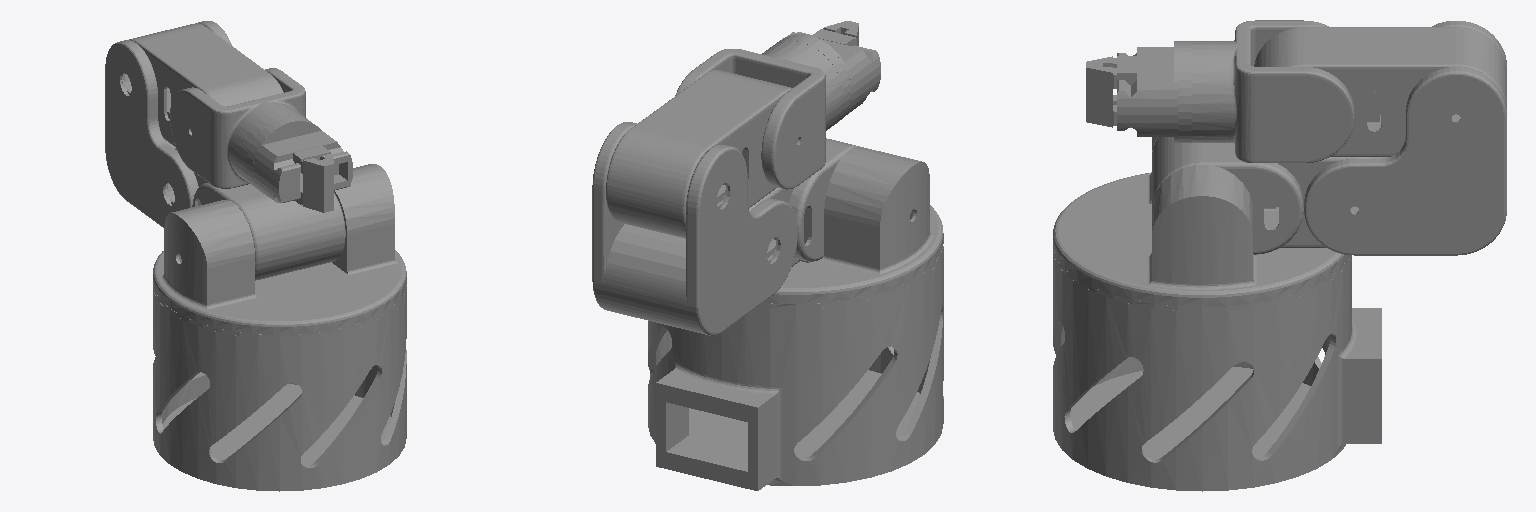
robot.urdf — URDF_mesh3:
<?xml version="1.0" encoding="utf-8"?>
<!-- This URDF was automatically created by SolidWorks to URDF Exporter! Originally created by Stephen Brawner (brawner@gmail.com) 
     Commit Version: 1.6.0-4-g7f85cfe  Build Version: 1.6.7995.38578
     For more information, please see http://wiki.ros.org/sw_urdf_exporter -->
<robot
  name="URDF_mesh3">
  <link
    name="base_link">
    <inertial>
      <origin
        xyz="-2.88841529450125E-05 0.00680637713324165 0.0542195174122674"
        rpy="0 0 0" />
      <mass
        value="0.276769434491233" />
      <inertia
        ixx="0.000920049908931992"
        ixy="4.47962690896385E-07"
        ixz="8.47165923723122E-07"
        iyy="0.000798308663008452"
        iyz="5.72343861467879E-05"
        izz="0.00126720597801514" />
    </inertial>
    <visual>
      <origin
        xyz="0 0 0"
        rpy="0 0 0" />
      <geometry>
        <mesh
          filename="package://URDF_mesh3/meshes/base_link.STL" />
      </geometry>
      <material
        name="">
        <color
          rgba="0.627450980392157 0.627450980392157 0.627450980392157 1" />
      </material>
    </visual>
    <collision>
      <origin
        xyz="0 0 0"
        rpy="0 0 0" />
      <geometry>
        <mesh
          filename="package://URDF_mesh3/meshes/base_link.STL" />
      </geometry>
    </collision>
  </link>
  <link
    name="link_1">
    <inertial>
      <origin
        xyz="-0.0010669 -5.4441E-06 0.016145"
        rpy="0 0 0" />
      <mass
        value="0.10166" />
      <inertia
        ixx="0.0001764"
        ixy="2.5396E-10"
        ixz="1.8796E-06"
        iyy="0.00023841"
        iyz="-8.9944E-09"
        izz="0.00036361" />
    </inertial>
    <visual>
      <origin
        xyz="0 0 0"
        rpy="0 0 0" />
      <geometry>
        <mesh
          filename="package://URDF_mesh3/meshes/link_1.STL" />
      </geometry>
      <material
        name="">
        <color
          rgba="0.62745 0.62745 0.62745 1" />
      </material>
    </visual>
    <collision>
      <origin
        xyz="0 0 0"
        rpy="0 0 0" />
      <geometry>
        <mesh
          filename="package://URDF_mesh3/meshes/link_1.STL" />
      </geometry>
    </collision>
  </link>
  <joint
    name="joint_1"
    type="revolute">
    <origin
      xyz="0 0 0.09905"
      rpy="0 0 0" />
    <parent
      link="base_link" />
    <child
      link="link_1" />
    <axis
      xyz="0 0 1" />
    <limit
      lower="-1.57"
      upper="1.57"
      effort="10"
      velocity="100" />
  </joint>
  <link
    name="link_2">
    <inertial>
      <origin
        xyz="0.002007 -0.036338 -0.0064654"
        rpy="0 0 0" />
      <mass
        value="0.10565" />
      <inertia
        ixx="0.00013506"
        ixy="-1.2634E-05"
        ixz="2.7537E-07"
        iyy="4.4035E-05"
        iyz="-1.7264E-07"
        izz="0.00015959" />
    </inertial>
    <visual>
      <origin
        xyz="0 0 0"
        rpy="0 0 0" />
      <geometry>
        <mesh
          filename="package://URDF_mesh3/meshes/link_2.STL" />
      </geometry>
      <material
        name="">
        <color
          rgba="0.62745 0.62745 0.62745 1" />
      </material>
    </visual>
    <collision>
      <origin
        xyz="0 0 0"
        rpy="0 0 0" />
      <geometry>
        <mesh
          filename="package://URDF_mesh3/meshes/link_2.STL" />
      </geometry>
    </collision>
  </link>
  <!-- UPDATED: joint_2 limits to negative range, keep axis as +X -->
  <joint
    name="joint_2"
    type="revolute">
    <origin
      xyz="0 0 0.035575"
      rpy="0 0 3.1416" />
    <parent
      link="link_1" />
    <child
      link="link_2" />
    <axis
      xyz="1 0 0" />
    <limit
      lower="-3.14"
      upper="0.0"
      effort="10"
      velocity="100" />
  </joint>
  <link
    name="link_3">
    <inertial>
      <origin
        xyz="-0.0021945 -0.037173 0.013431"
        rpy="0 0 0" />
      <mass
        value="0.056164" />
      <inertia
        ixx="8.1864E-05"
        ixy="1.5822E-06"
        ixz="1.3441E-06"
        iyy="7.6267E-05"
        iyz="1.0556E-05"
        izz="7.6463E-05" />
    </inertial>
    <visual>
      <origin
        xyz="0 0 0"
        rpy="0 0 0" />
      <geometry>
        <mesh
          filename="package://URDF_mesh3/meshes/link_3.STL" />
      </geometry>
      <material
        name="">
        <color
          rgba="0.62745 0.62745 0.62745 1" />
      </material>
    </visual>
    <collision>
      <origin
        xyz="0 0 0"
        rpy="0 0 0" />
      <geometry>
        <mesh
          filename="package://URDF_mesh3/meshes/link_3.STL" />
      </geometry>
    </collision>
  </link>
  <!-- UPDATED: joint_3 limits to negative range, keep axis as +X -->
  <joint
    name="joint_3"
    type="revolute">
    <origin
      xyz="0 -0.0761249999999974 0"
      rpy="0 0 0" />
    <parent
      link="link_2" />
    <child
      link="link_3" />
    <axis
      xyz="1 0 0" />
    <limit
      lower="-1.5708"
      upper="0.0"
      effort="10"
      velocity="100" />
  </joint>
  <link
    name="link_4">
    <inertial>
      <origin
        xyz="-9.93928394361599E-07 0.0380601973046595 -0.00704542972957761"
        rpy="0 0 0" />
      <mass
        value="0.0977593136694577" />
      <inertia
        ixx="0.00012422679121059"
        ixy="-7.57273613330422E-06"
        ixz="1.05703297903424E-09"
        iyy="3.1370702379211E-05"
        iyz="2.36067369751032E-09"
        izz="0.00013757045449995" />
    </inertial>
    <visual>
      <origin
        xyz="0 0 0"
        rpy="0 0 0" />
      <geometry>
        <mesh
          filename="package://URDF_mesh3/meshes/link_4.STL" />
      </geometry>
      <material
        name="">
        <color
          rgba="0.627450980392157 0.627450980392157 0.627450980392157 1" />
      </material>
    </visual>
    <collision>
      <origin
        xyz="0 0 0"
        rpy="0 0 0" />
      <geometry>
        <mesh
          filename="package://URDF_mesh3/meshes/link_4.STL" />
      </geometry>
    </collision>
  </link>
  <joint
    name="joint_4"
    type="revolute">
    <origin
      xyz="0 -0.0507499999999999 0.05075"
      rpy="0 0 0" />
    <parent
      link="link_3" />
    <child
      link="link_4" />
    <axis
      xyz="1 0 0" />
    <limit
      lower="0"
      upper="6.283"
      effort="10"
      velocity="100" />
  </joint>
  <link
    name="link_5">
    <inertial>
      <origin
        xyz="0.0011622446183474 0.0300159917617823 -0.00014861417811951"
        rpy="0 0 0" />
      <mass
        value="0.0308248485930793" />
      <inertia
        ixx="2.17151468738054E-05"
        ixy="9.46174930656814E-07"
        ixz="-6.76466170810024E-09"
        iyy="2.09317844598001E-05"
        iyz="7.53279506943715E-08"
        izz="2.76571581841984E-05" />
    </inertial>
    <visual>
      <origin
        xyz="0 0 0"
        rpy="0 0 0" />
      <geometry>
        <mesh
          filename="package://URDF_mesh3/meshes/link_5.STL" />
      </geometry>
      <material
        name="">
        <color
          rgba="0.627450980392157 0.627450980392157 0.627450980392157 1" />
      </material>
    </visual>
    <collision>
      <origin
        xyz="0 0 0"
        rpy="0 0 0" />
      <geometry>
        <mesh
          filename="package://URDF_mesh3/meshes/link_5.STL" />
      </geometry>
    </collision>
  </link>
  <joint
    name="joint_5"
    type="revolute">
    <origin
      xyz="0 0.0761250000168926 0"
      rpy="0 0 0" />
    <parent
      link="link_4" />
    <child
      link="link_5" />
    <axis
      xyz="1 0 0" />
    <limit
      lower="-1.57"
      upper="1.57"
      effort="10"
      velocity="100" />
  </joint>
  <link
    name="link_6">
    <inertial>
      <origin
        xyz="4.34874358745674E-13 0.00115067073632438 -0.022579968354949"
        rpy="0 0 0" />
      <mass
        value="0.0408091184402496" />
      <inertia
        ixx="1.03629622764239E-05"
        ixy="1.9860708475081E-17"
        ixz="2.2466219914749E-15"
        iyy="6.89840949583298E-06"
        iyz="2.46332338872545E-07"
        izz="1.1838330156667E-05" />
    </inertial>
    <visual>
      <origin
        xyz="0 0 0"
        rpy="0 0 0" />
      <geometry>
        <mesh
          filename="package://URDF_mesh3/meshes/link_6.STL" />
      </geometry>
      <material
        name="">
        <color
          rgba="0.627450980392157 0.627450980392157 0.627450980392157 1" />
      </material>
    </visual>
    <collision>
      <origin
        xyz="0 0 0"
        rpy="0 0 0" />
      <geometry>
        <mesh
          filename="package://URDF_mesh3/meshes/link_6.STL" />
      </geometry>
    </collision>
  </link>
  <joint
    name="joint_6"
    type="revolute">
    <origin
      xyz="0 0.055817 0"
      rpy="1.5708 1.5708 0" />
    <parent
      link="link_5" />
    <child
      link="link_6" />
    <axis
      xyz="0 0 1" />
    <limit
      lower="-1.57"
      upper="1.57"
      effort="10"
      velocity="100" />
  </joint>
</robot>

--- Render facts (derived) ---
The picture shows the robot from 3 angles, left to right: view 1: azimuth 30°, elevation 25°; view 2: azimuth 150°, elevation 25°; view 3: azimuth 270°, elevation 25°; orthographic projection.
Robot: URDF_mesh3 — 7 links, 6 joints (6 revolute); root link base_link; default pose: all joints at 0.
Visible links, largest first — view 1: base_link, link_1, link_3, link_5, link_4, link_2, link_6; view 2: base_link, link_3, link_1, link_4, link_5, link_6, link_2; view 3: base_link, link_1, link_3, link_5, link_4, link_6, link_2.
Boxes of the visible links, <box> form: base_link: <box>153,285,406,491</box>; link_1: <box>153,164,406,338</box>; link_3: <box>105,21,231,227</box>; link_5: <box>170,68,306,188</box>; link_4: <box>124,23,283,146</box>; link_2: <box>167,148,345,280</box>; link_6: <box>247,115,352,212</box>; base_link: <box>648,246,943,490</box>; link_3: <box>592,122,797,335</box>; link_1: <box>759,146,943,308</box>; link_4: <box>606,70,797,238</box>; link_5: <box>675,41,843,189</box>; link_6: <box>773,21,880,128</box>; link_2: <box>749,138,857,266</box>; base_link: <box>1053,252,1381,491</box>; link_1: <box>1053,137,1350,311</box>; link_3: <box>1304,21,1506,255</box>; link_5: <box>1192,20,1354,162</box>; link_4: <box>1254,27,1506,156</box>; link_6: <box>1086,41,1191,142</box>; link_2: <box>1152,137,1387,254</box>.
Size in the robot's own frame: 0.1494 by 0.227 by 0.2107 metres.
7 mesh visuals loaded from 7 distinct referenced files (7 binary STL).
